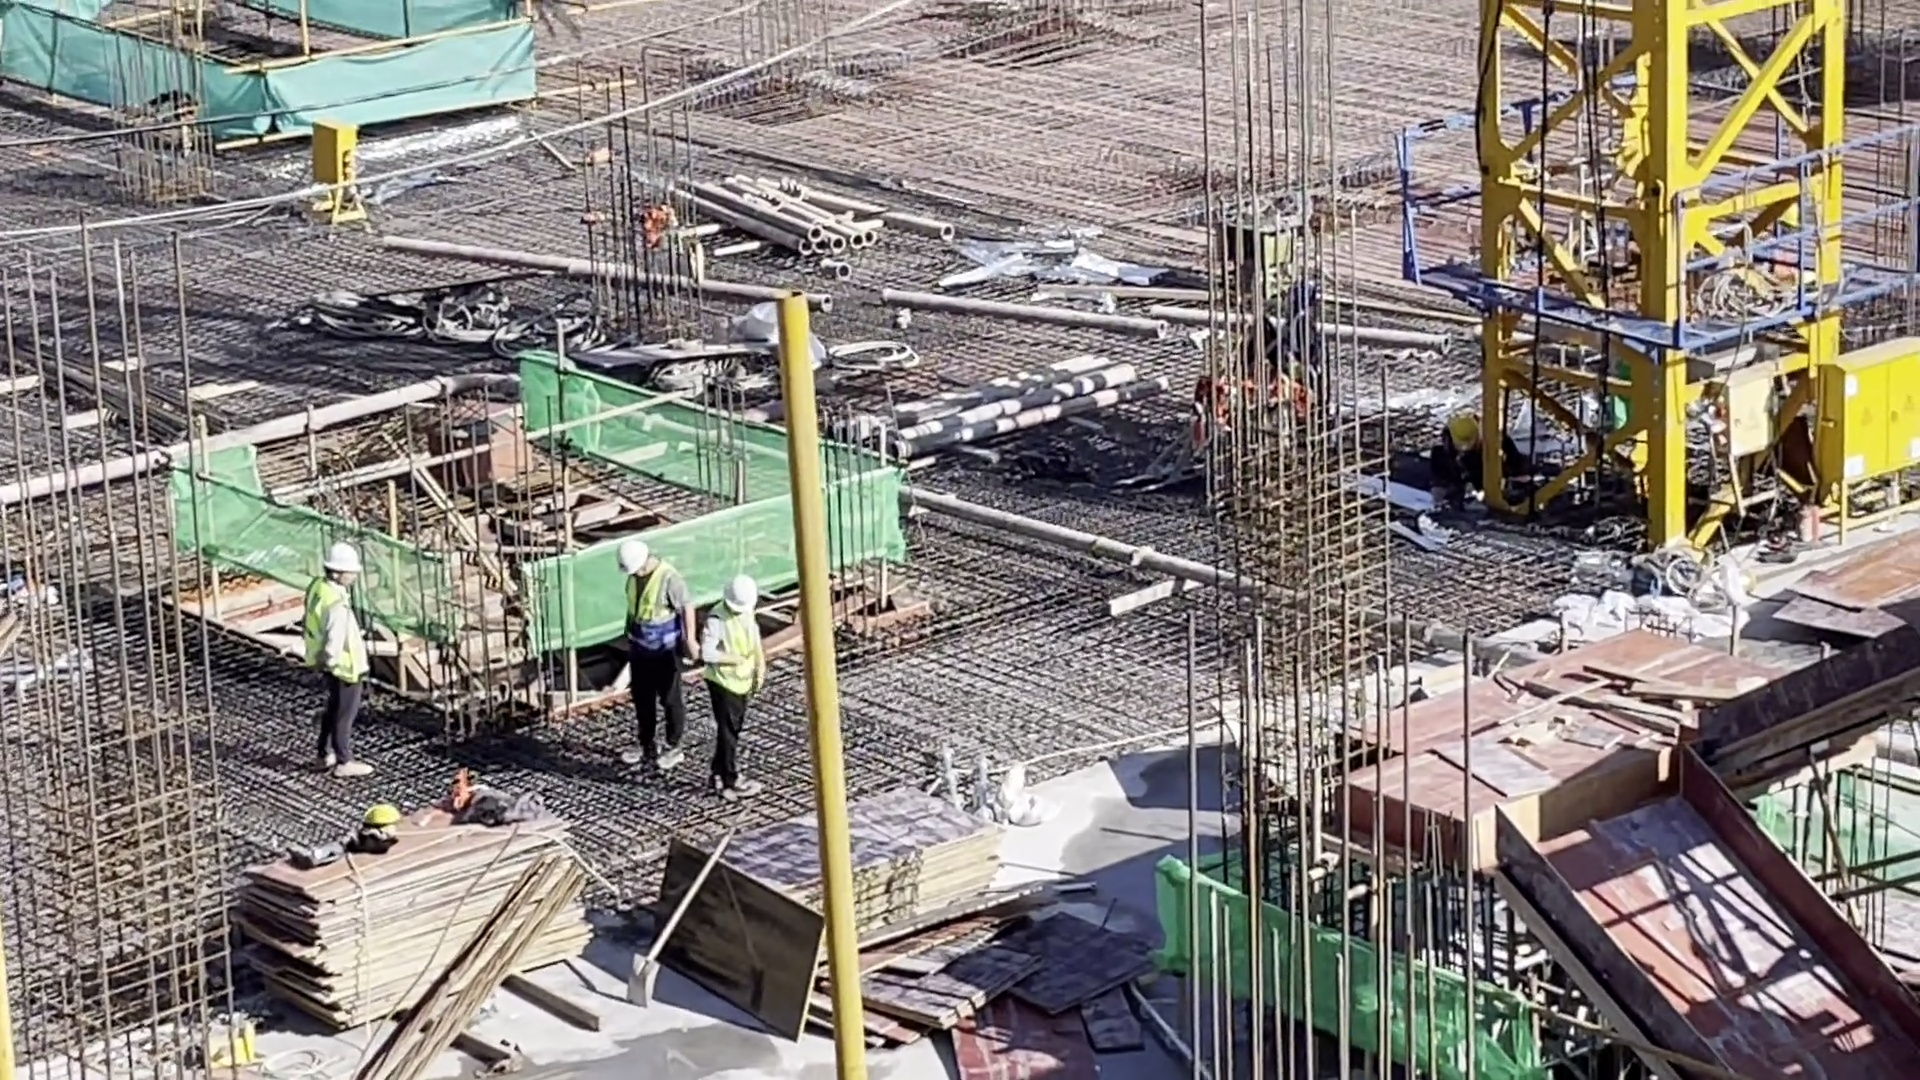helmet: (718, 580, 758, 613), (325, 546, 358, 576), (1451, 420, 1478, 450), (621, 542, 647, 571)
person: (615, 539, 695, 772), (300, 546, 377, 780), (700, 568, 766, 793), (1439, 409, 1515, 493)
vest: (303, 576, 366, 682), (622, 571, 681, 647), (713, 612, 761, 698)
